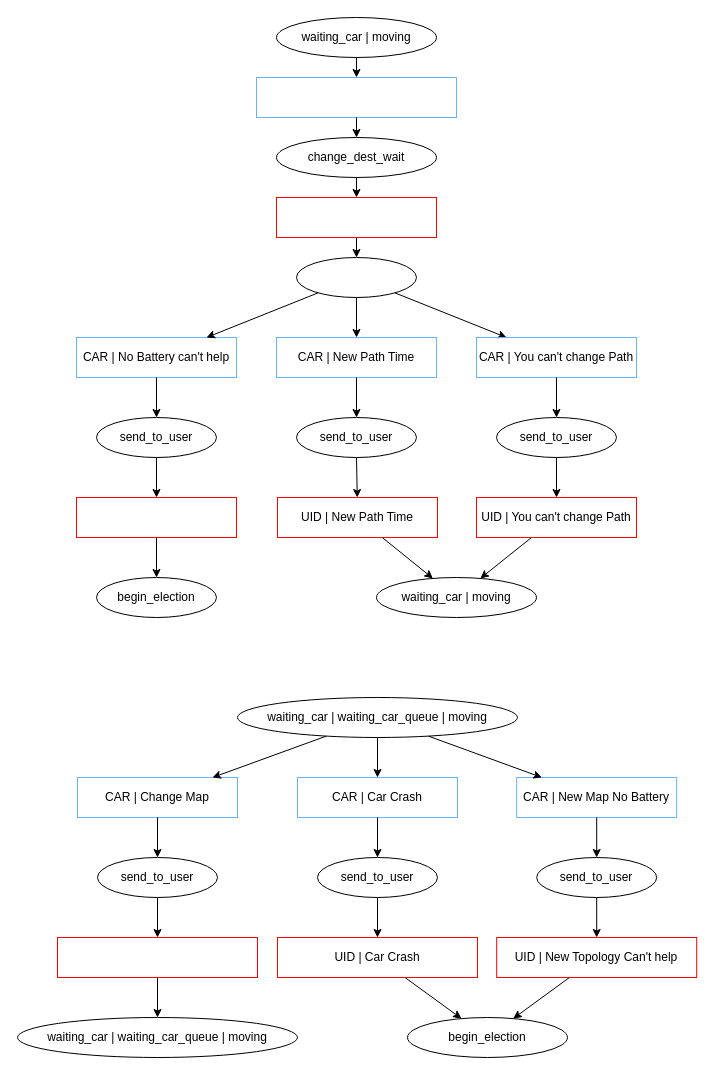
The diagram is 715 pixels wide and 1075 high, and some of its shapes have lost their labels. The centre of each missing label's shape, as x and y in pixels:
"CAR | User Change Dest" belongs at point 356,217.
"UID | Change Dest - New Dest" belongs at point 356,97.
"UID | No Battery can't help" belongs at point 156,517.
"UID| New Time of Ride" belongs at point 157,957.
"waiting_resp_wait" belongs at point 356,277.
